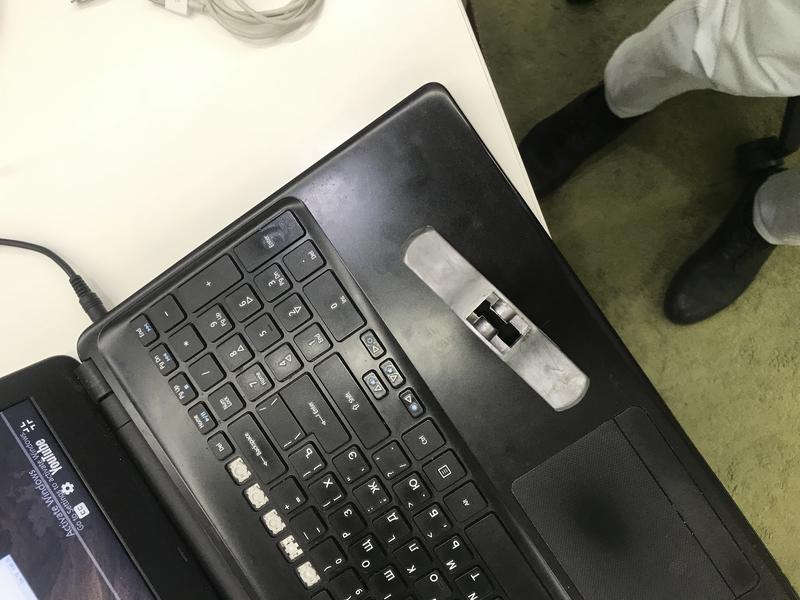zapchast: (390, 210, 606, 426)
